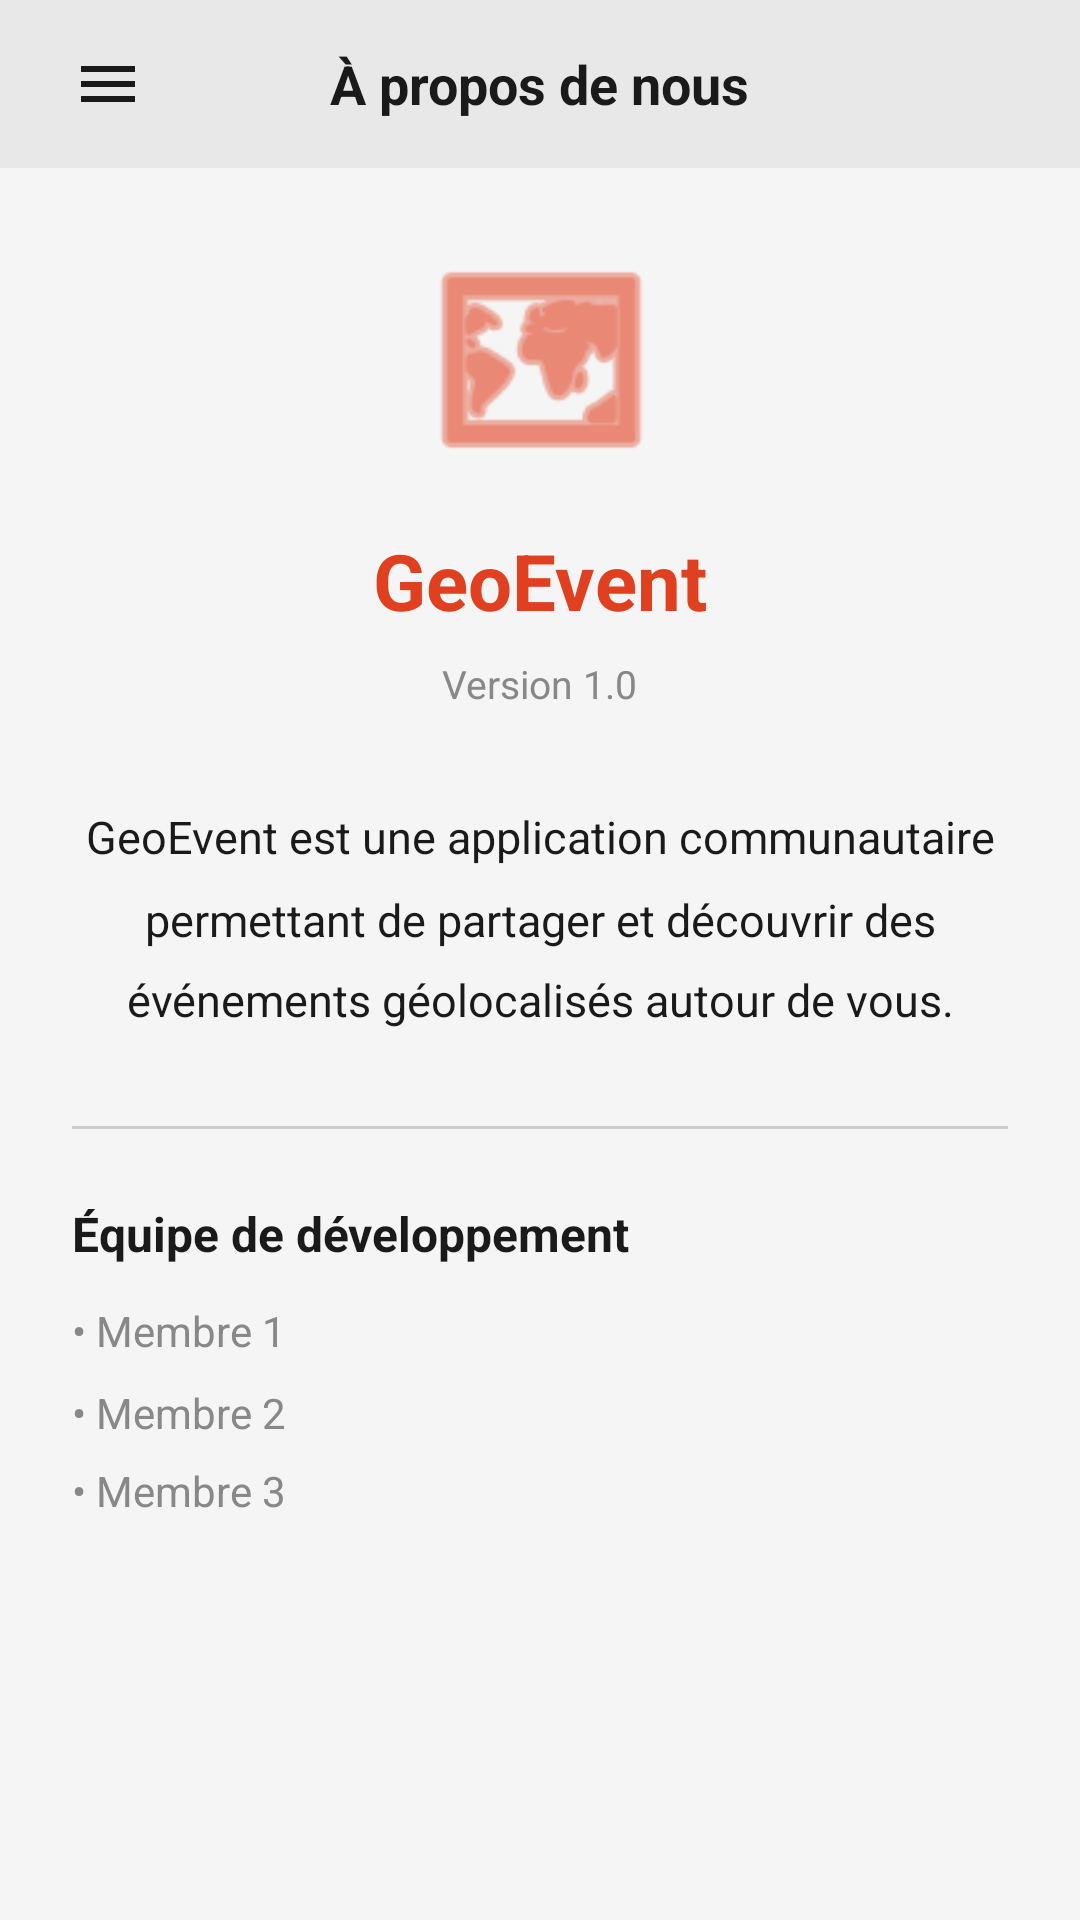

Icons on this 1080×1920 Android screen, each with its box as bbox=(x1, y1, x2, y2):
mapmode: bbox=(441, 272, 641, 448)
Menu: bbox=(81, 66, 135, 102)
